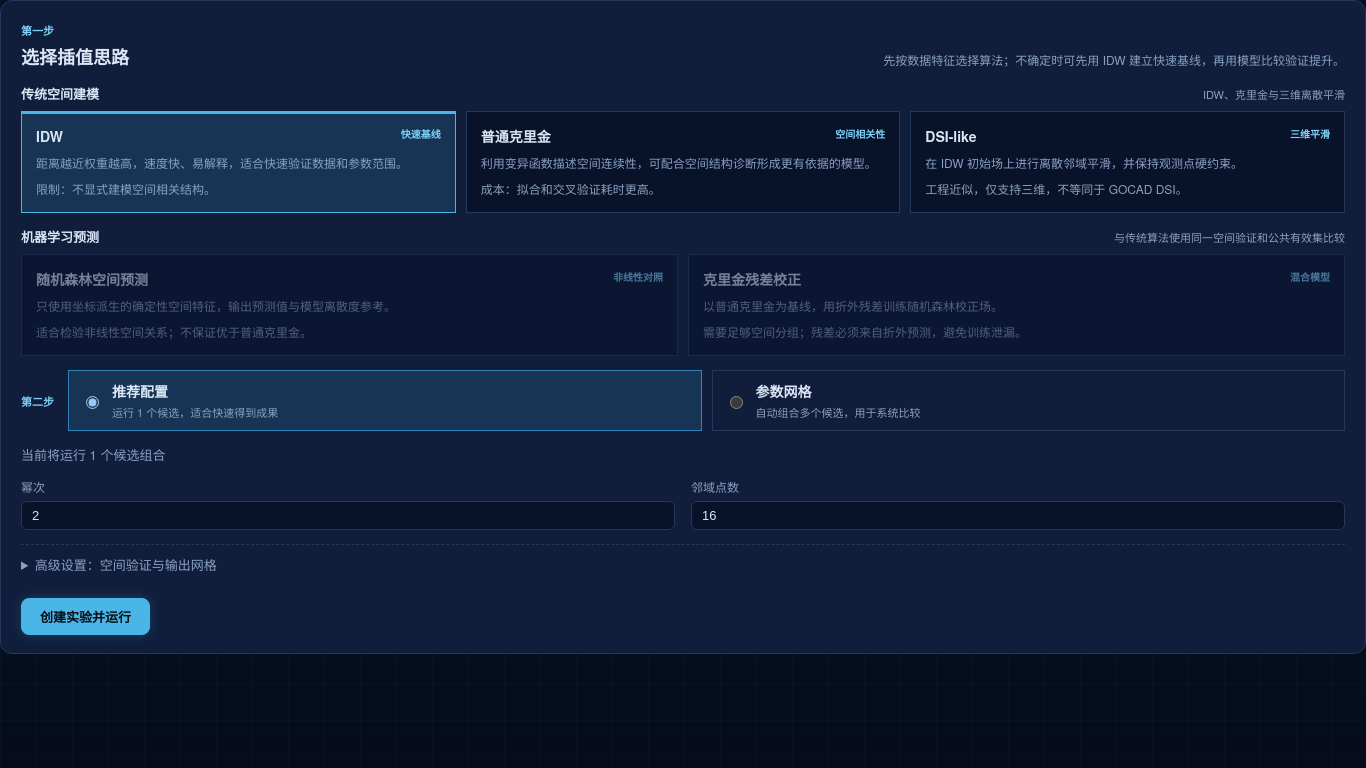
Test: ParameterEditor dsi_like（v0.8.0） › 固定 hard_constraints / convergence_tolerance 只读展示，不提供关闭或编辑入口
Click the radio button with test id "algo-dsi-like". click: [1128, 162]
box: [910, 111, 1345, 213]
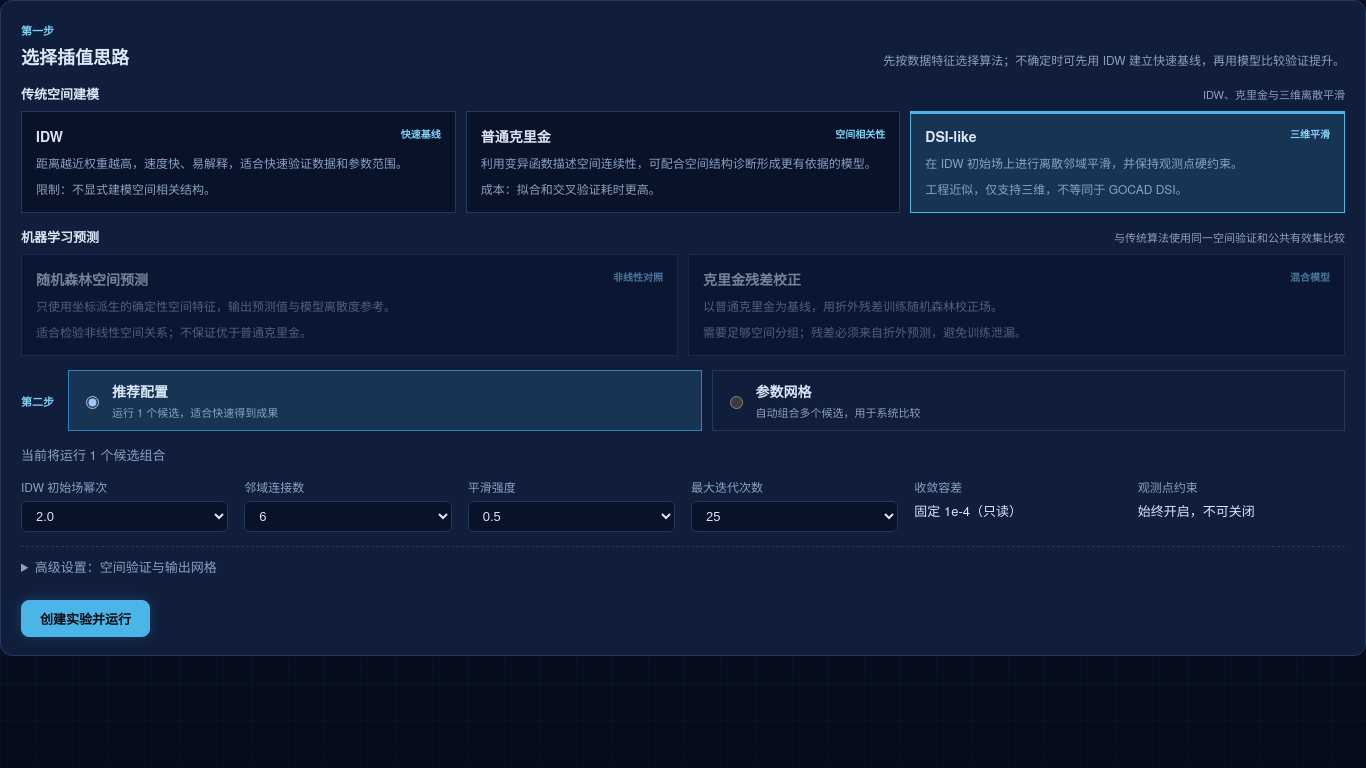
Expected: the element with test id "dsi-hard-constraints" shows "始终开启", [1138, 501, 1255, 520]
Expected: the element with test id "dsi-convergence-tolerance" shows "1e-4", [914, 501, 1022, 520]
